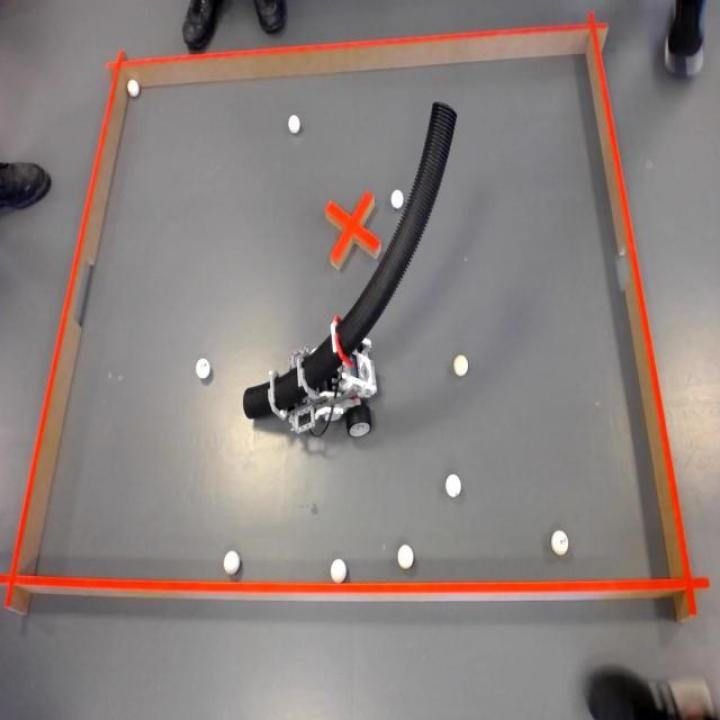robot: (241, 102, 456, 440)
white: (548, 529, 571, 561), (194, 358, 216, 389), (223, 548, 244, 579), (329, 557, 352, 585), (395, 544, 416, 572), (288, 112, 308, 138), (454, 352, 472, 380), (444, 472, 462, 500), (124, 78, 144, 101), (390, 187, 406, 212)
